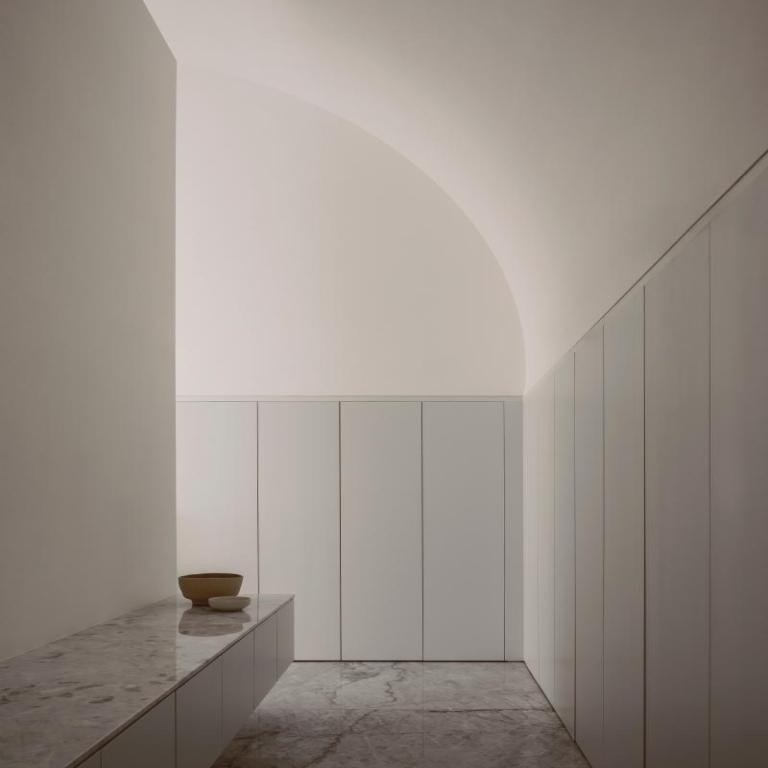white-walls: (19, 48, 750, 603)
